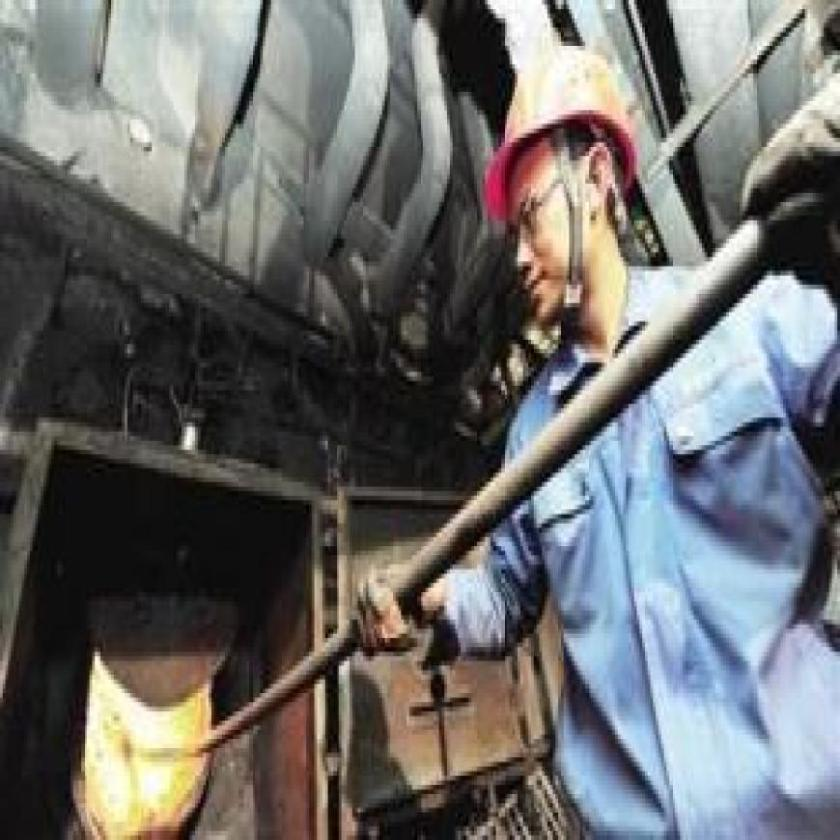Con_casco: (482, 44, 650, 328)
